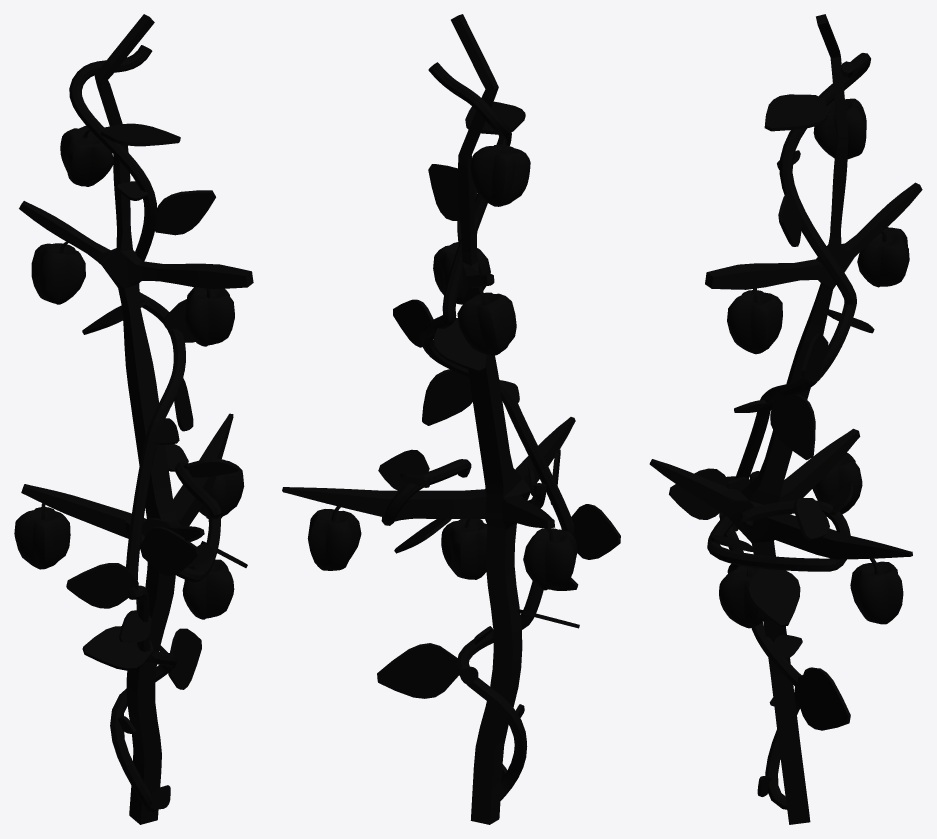
Rendered from PepperBush_2.fbx.
The picture shows the model from 3 angles, left to right: view 1: azimuth 30°, elevation 25°; view 2: azimuth 150°, elevation 25°; view 3: azimuth 270°, elevation 25°; orthographic projection. The views are drawn at different scales.
Visible parts, largest first — view 1: PepperBush_2, Pepper_2_Red.006, Pepper_3_Yellow.003, Pepper_2_Red.005, Pepper_1_Green.004, Pepper_1_Green.003, Pepper_3_Yellow.004; view 2: PepperBush_2, Pepper_1_Green.004, Pepper_3_Yellow.003, Pepper_3_Yellow.004, Pepper_2_Red.006, Pepper_1_Green.003, Pepper_2_Red.005; view 3: PepperBush_2, Pepper_2_Red.005, Pepper_3_Yellow.004, Pepper_3_Yellow.003, Pepper_1_Green.003, Pepper_1_Green.004, Pepper_2_Red.006.
Boxes of the visible parts, x1,y1,x2,y2 form: PepperBush_2: (19, 14, 253, 824); Pepper_2_Red.006: (14, 503, 70, 569); Pepper_3_Yellow.003: (31, 241, 85, 304); Pepper_2_Red.005: (185, 287, 234, 346); Pepper_1_Green.004: (60, 125, 113, 186); Pepper_1_Green.003: (182, 559, 234, 619); Pepper_3_Yellow.004: (199, 460, 244, 518); PepperBush_2: (282, 14, 620, 824); Pepper_1_Green.004: (470, 139, 530, 206); Pepper_3_Yellow.003: (457, 286, 516, 355); Pepper_3_Yellow.004: (307, 506, 361, 570); Pepper_2_Red.006: (523, 528, 577, 590); Pepper_1_Green.003: (441, 519, 487, 579); Pepper_2_Red.005: (433, 242, 490, 304); PepperBush_2: (649, 14, 922, 824); Pepper_2_Red.005: (727, 288, 782, 354); Pepper_3_Yellow.004: (850, 558, 903, 624); Pepper_3_Yellow.003: (857, 227, 909, 287); Pepper_1_Green.003: (719, 565, 766, 628); Pepper_1_Green.004: (813, 98, 866, 159); Pepper_2_Red.006: (812, 452, 862, 514).
Bounding box in the file's own units: 15.95 × 48.1 × 14.65.
